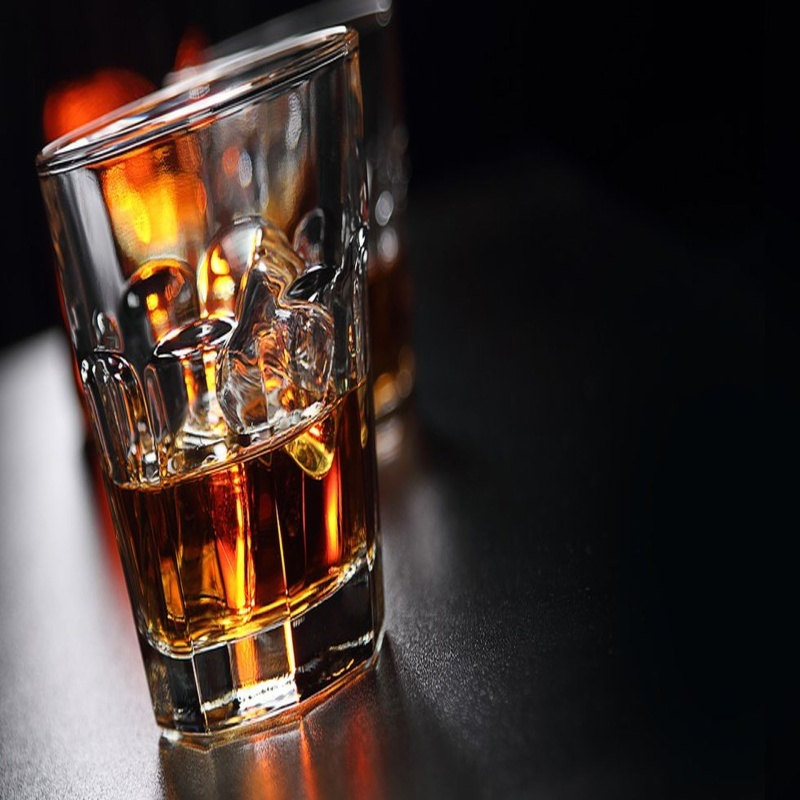whiskey: (49, 30, 392, 731)
